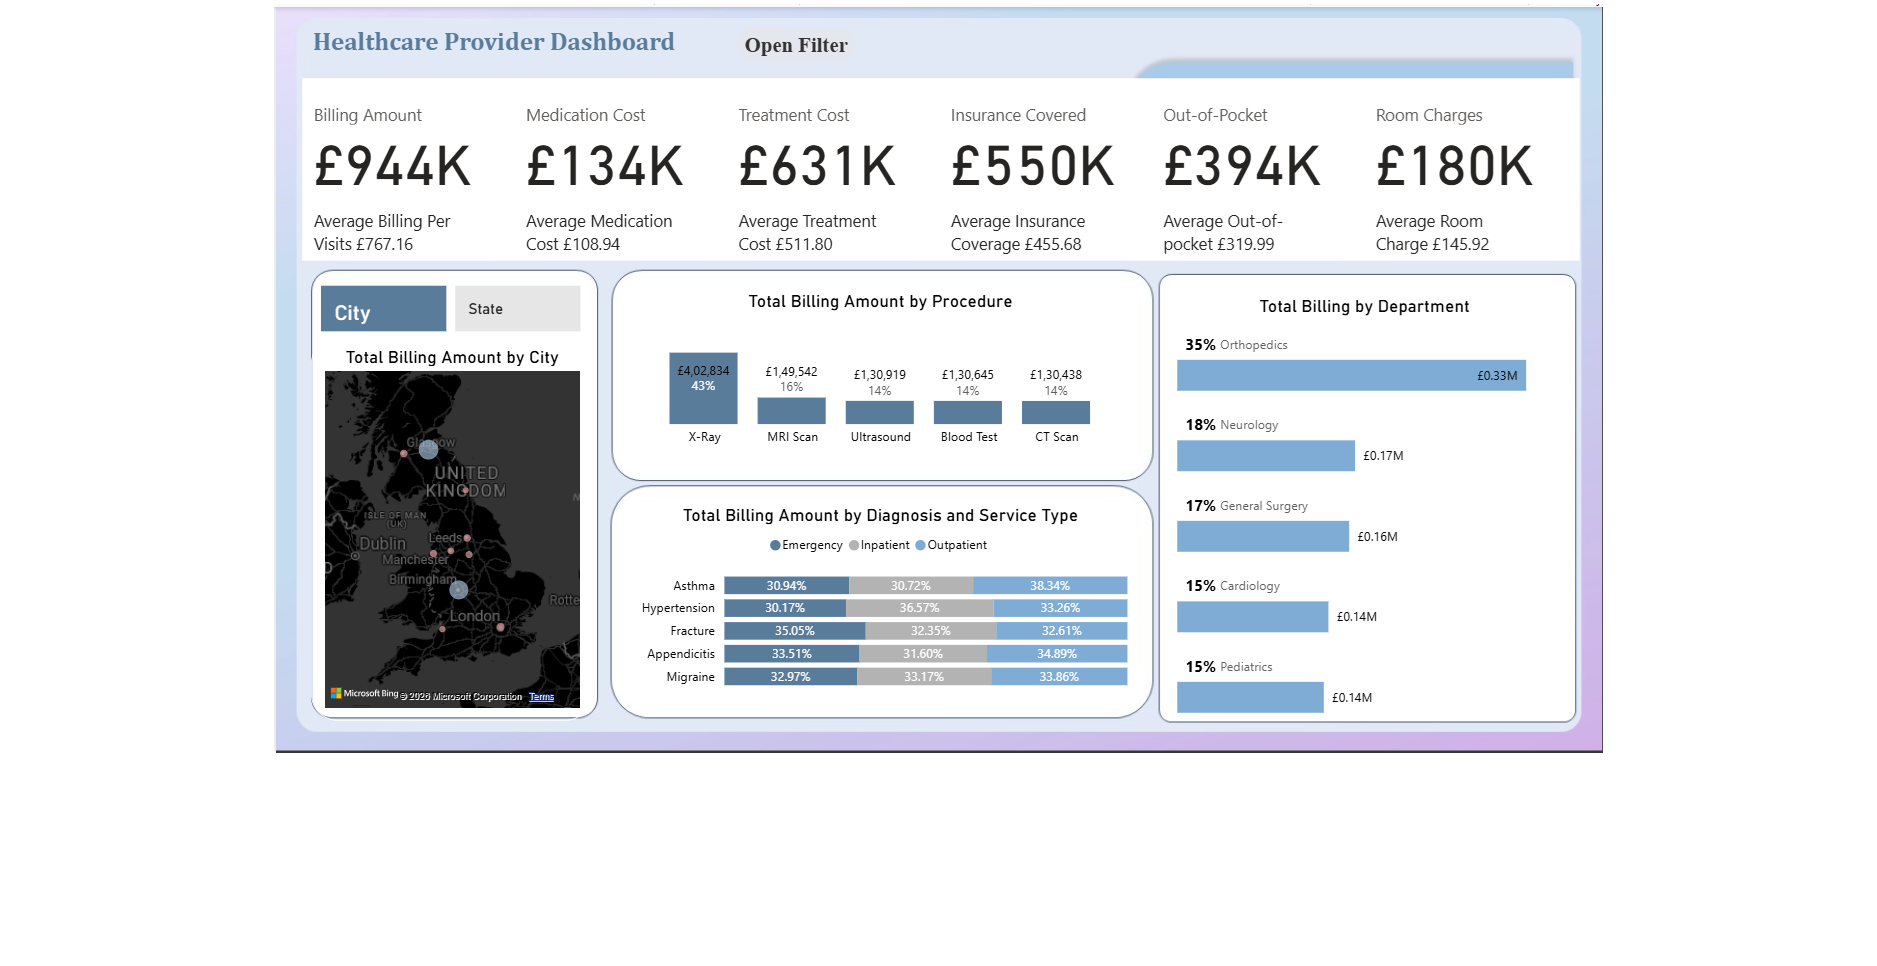

Layout of this report page (visuals, bound fields, positions):
{"tool":"powerbi","page":{"name":"Page 2","canvas":[1280,720],"ordinal":0},"visuals":[{"type":"cardVisual","fields":{"Data":["DAX_Calculations.Total Billing Amount","DAX_Calculations.Total Medication Cost","DAX_Calculations.Total Treatment Cost","DAX_Calculations.Total Insurance Covered","DAX_Calculations.Out-of-Pocket","DAX_Calculations.Total Room Charges"]},"box":[25.3,68.8,1233,176.1],"z":0},{"type":"actionButton","title":"Open","box":[443.9,20,116,34.4],"z":1000,"group":"g1"},{"type":"map","fields":{"Category":["cities.City"],"Size":["DAX_Calculations.Total Billing Amount"]},"box":[33.8,318.5,271.4,370.4],"z":1000},{"type":"advancedSlicerVisual","fields":{"Values":["Patients Location Switch.Patients Location Switch"]},"box":[38.6,264.2,261.8,54.3],"z":2000},{"type":"clusteredColumnChart","fields":{"Category":["procedures.Procedure"],"Y":["DAX_Calculations.Total Billing Amount"]},"box":[330.6,264.2,504.3,176.1],"z":3000},{"type":"hundredPercentStackedBarChart","fields":{"Y":["DAX_Calculations.Total Billing Amount"],"Category":["diagnoses.Diagnosis"],"Series":["visits.Service Type"]},"box":[330.6,470.5,504.3,206.3],"z":4000},{"type":"clusteredBarChart","title":"Total Billing  by Department","fields":{"Y":["DAX_Calculations.Blank Measures","DAX_Calculations.Total Billing Amount"],"Category":["departments.Department"]},"box":[865,278.7,371.6,410.2],"z":5000},{"type":"textbox","box":[25.3,13.3,370.4,44.6],"z":6000},{"type":"textbox","box":[25.3,79.6,264.2,33.8],"z":7000},{"type":"group","id":"g1","title":"Slicers Button","box":[443.9,19.4,116,35],"z":9000},{"type":"actionButton","box":[77.2,109.8,237.7,31.4],"z":10000}]}

Visuals, with their boxes on the page's 1280x720 design canvas (x1, y1, x2, y2). These are canvas units, not pixel positions in the 1877x966 screenshot, which may show the page scaled, cropped or inside an application window:
cardVisual - DAX_Calculations.Total Billing Amount x DAX_Calculations.Total Medication Cost: [25,69,1258,245]
"Open" actionButton: [444,20,560,54]
map - cities.City x DAX_Calculations.Total Billing Amount: [34,318,305,689]
advancedSlicerVisual - Patients Location Switch.Patients Location Switch: [39,264,300,318]
clusteredColumnChart - procedures.Procedure x DAX_Calculations.Total Billing Amount: [331,264,835,440]
hundredPercentStackedBarChart - DAX_Calculations.Total Billing Amount x diagnoses.Diagnosis: [331,470,835,677]
"Total Billing  by Department" clusteredBarChart: [865,279,1237,689]
textbox: [25,13,396,58]
textbox: [25,80,290,113]
"Slicers Button" group: [444,19,560,54]
actionButton: [77,110,315,141]
